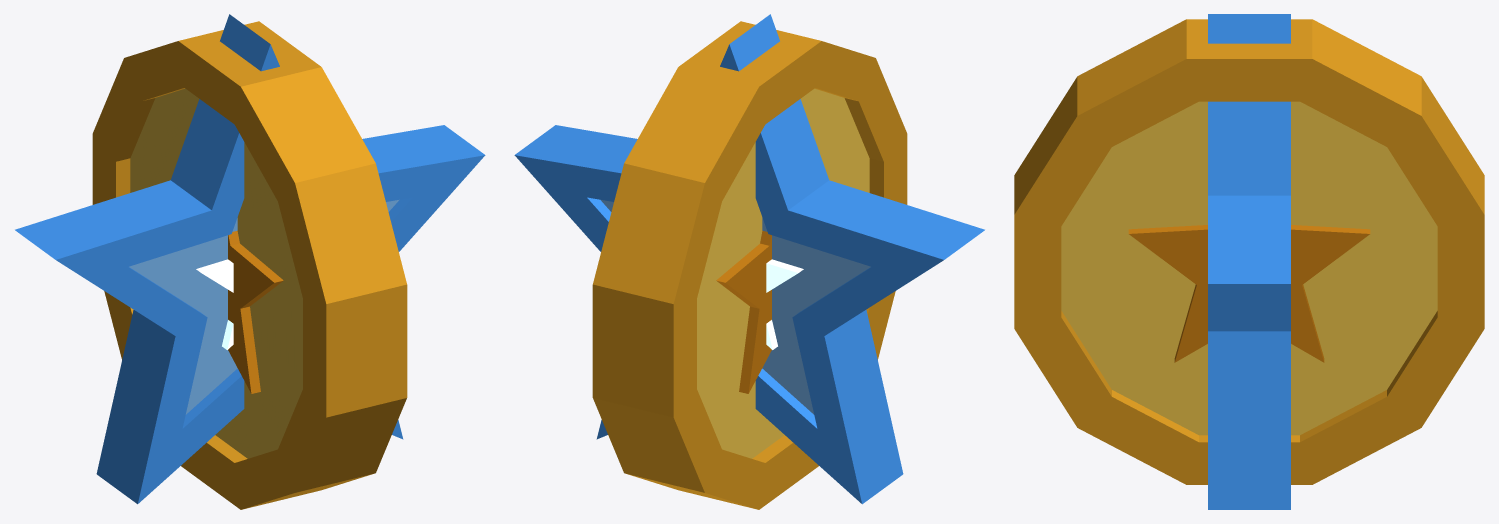
The model's file is shared_loot.fbx.
The picture shows the model from 3 angles, left to right: view 1: azimuth 30°, elevation 25°; view 2: azimuth 150°, elevation 25°; view 3: azimuth 270°, elevation 25°; orthographic projection.
Visible parts, largest first — view 1: Coin.Rim, ExpStar.Rim, Coin.Face, ExpStar.Face, Coin.Emblem, ExpStar.Gem; view 2: Coin.Rim, ExpStar.Rim, Coin.Face, ExpStar.Face, Coin.Emblem, ExpStar.Gem; view 3: Coin.Rim, Coin.Face, ExpStar.Rim, Coin.Emblem.
Part boxes in pixels (left/top/right/bottom): Coin.Rim: left=92, top=21, right=407, bottom=509; ExpStar.Rim: left=15, top=14, right=485, bottom=504; Coin.Face: left=130, top=88, right=302, bottom=458; ExpStar.Face: left=129, top=199, right=399, bottom=414; Coin.Emblem: left=228, top=230, right=283, bottom=393; ExpStar.Gem: left=196, top=259, right=233, bottom=349; Coin.Rim: left=592, top=21, right=907, bottom=509; ExpStar.Rim: left=514, top=14, right=984, bottom=504; Coin.Face: left=697, top=88, right=869, bottom=458; ExpStar.Face: left=600, top=199, right=870, bottom=414; Coin.Emblem: left=716, top=230, right=771, bottom=393; ExpStar.Gem: left=766, top=259, right=803, bottom=349; Coin.Rim: left=1014, top=19, right=1484, bottom=484; Coin.Face: left=1061, top=101, right=1437, bottom=435; ExpStar.Rim: left=1208, top=14, right=1290, bottom=509; Coin.Emblem: left=1128, top=225, right=1370, bottom=362.
Bounding box in the file's own units: 1.81 × 1.8 × 1.7.
